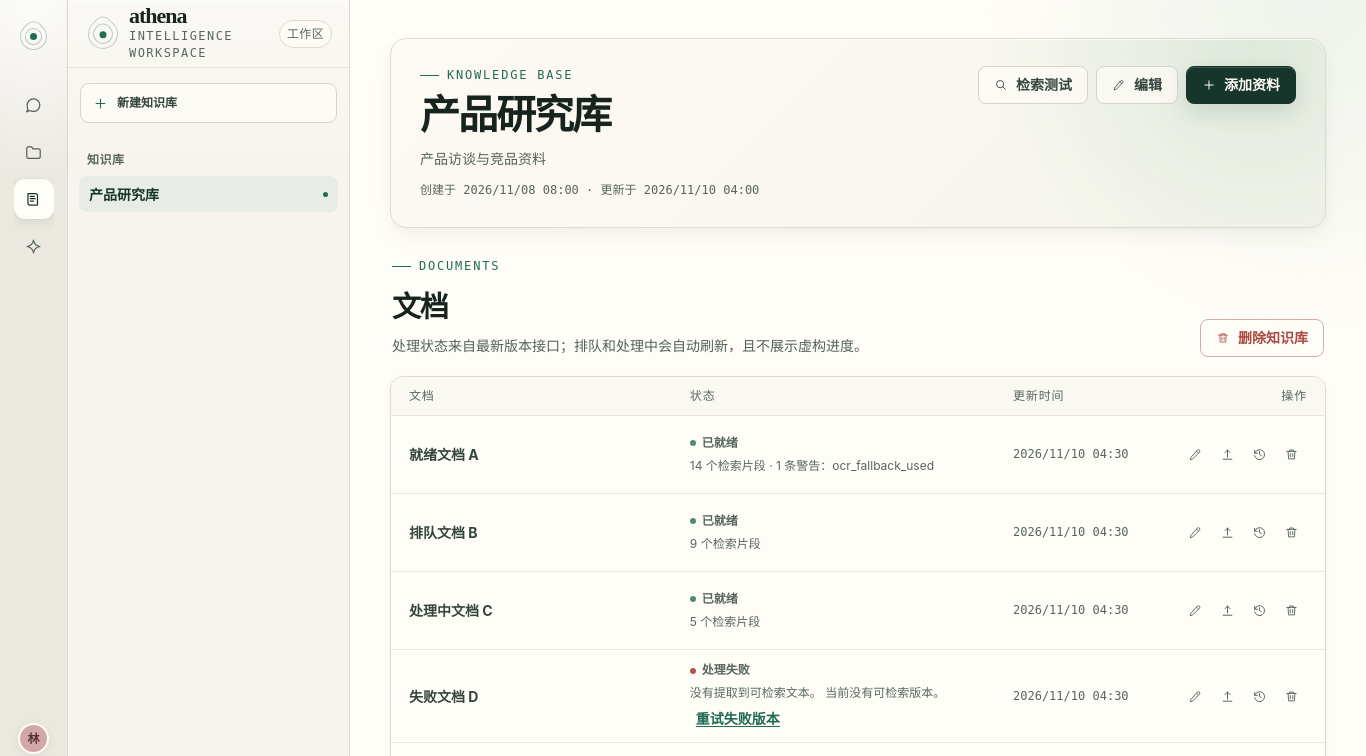
知识库文档状态 › 列表返回 latest_version 摘要时渲染 5 篇文档仅发 1 次列表请求、0 次 /versions 请求，并在列表轮询与重试后刷新
The image size is (1366, 756).
Expected: the text "就绪文档 A" is shown, [409, 444, 479, 465]
Expected: the text "排队文档 B" is shown, [409, 522, 478, 543]
失败行点击重试后通过列表失效刷新状态。
Click the button "重试失败版本".
click(738, 719)  # box [690, 706, 786, 732]
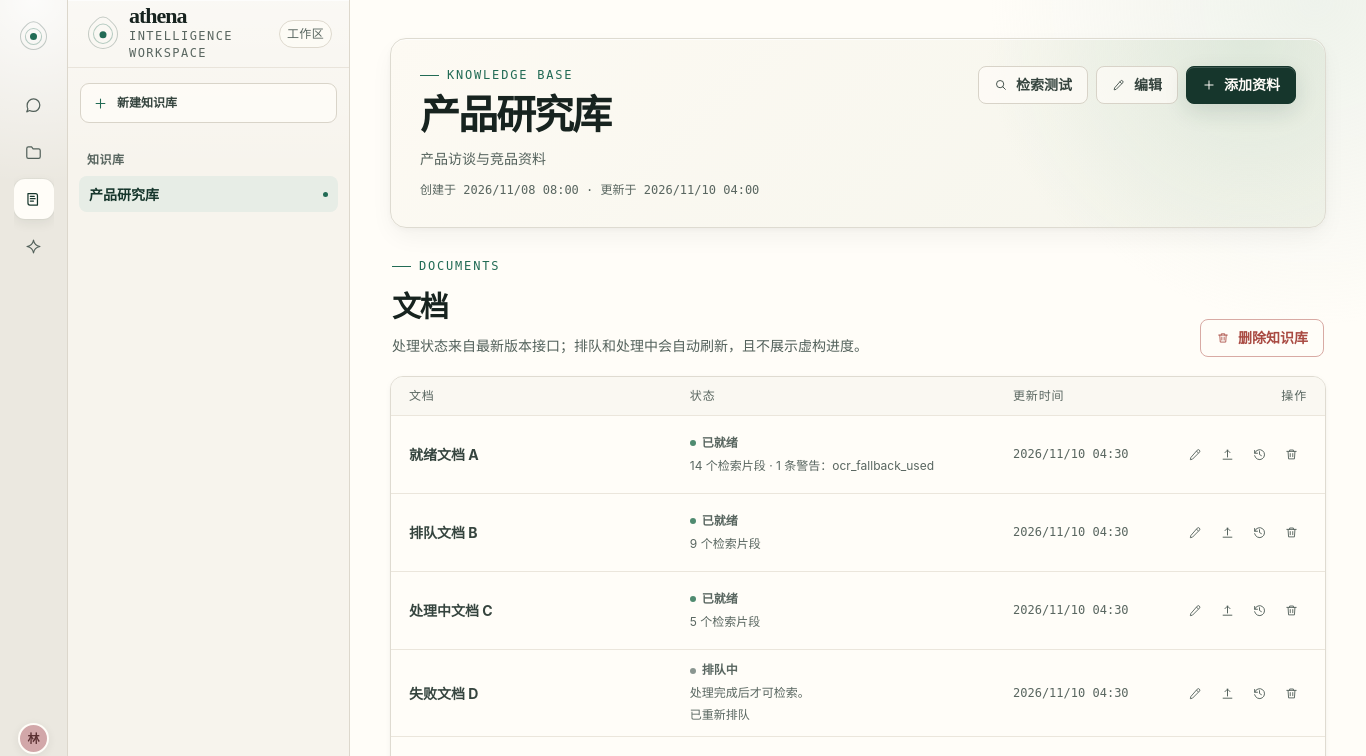
Now the text "已重新排队" is shown, box [690, 706, 750, 725]
Now the text "排队中" is shown, box [690, 661, 738, 680]
显式打开「版本历史」弹窗时才按需拉取完整版本列表。
Click the button named "版本历史：就绪文档 A".
click(1260, 455)  # box [1244, 439, 1275, 470]
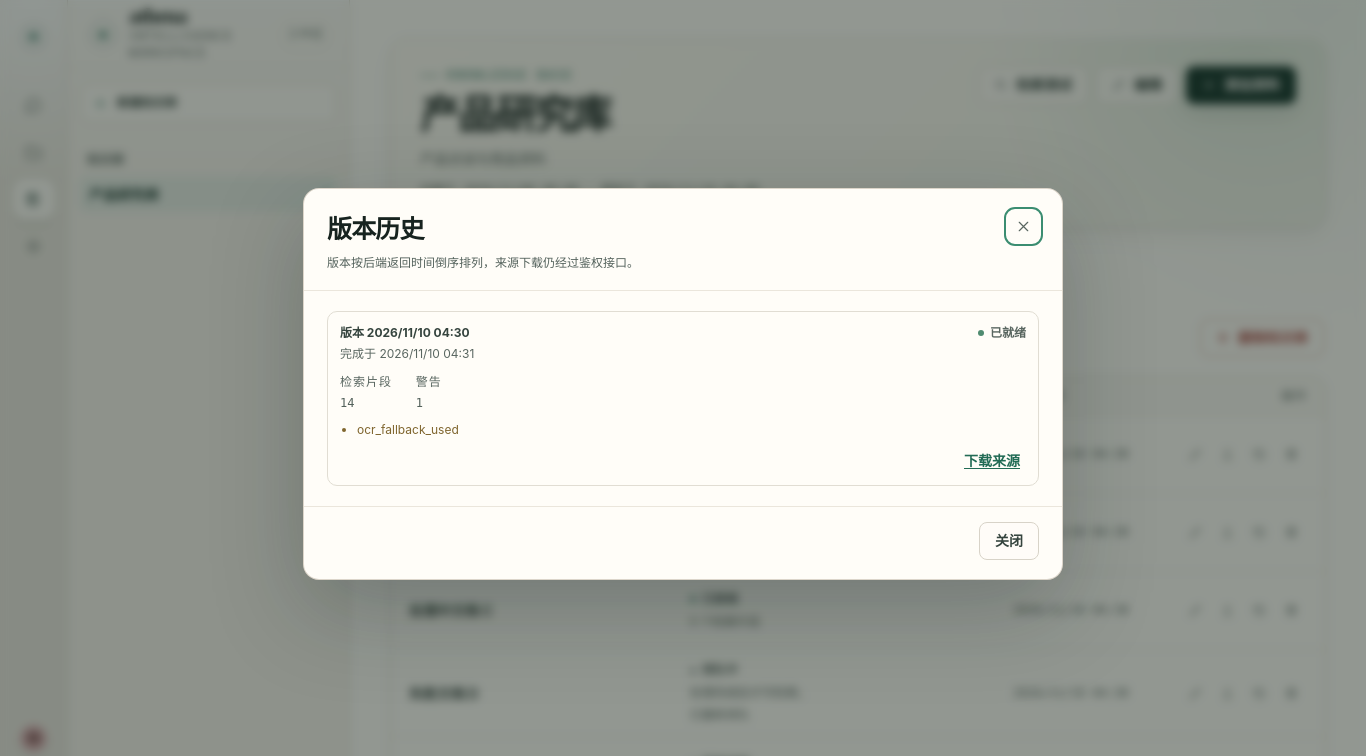
Now the dialog "版本历史" is shown, box [303, 188, 1063, 580]
